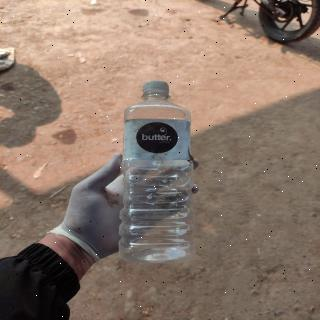Plastic-bottle: (114, 78, 204, 265)
